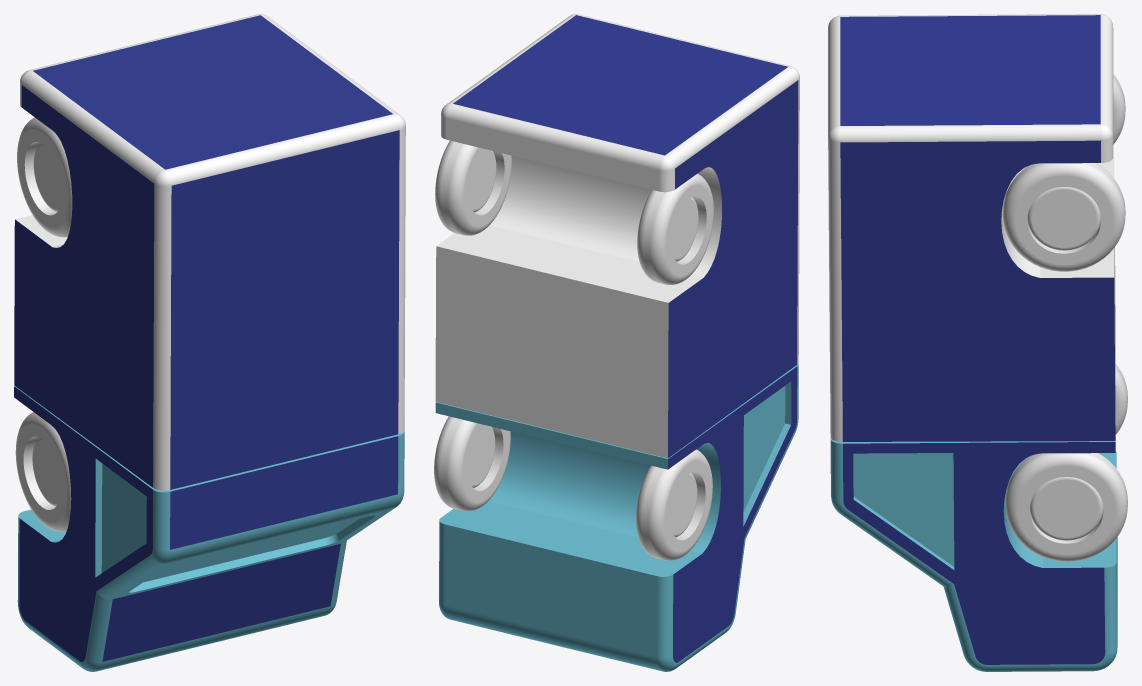
The model's file is car v4.fbx.
The picture shows the model from 3 angles, left to right: view 1: azimuth 30°, elevation 25°; view 2: azimuth 150°, elevation 25°; view 3: azimuth 270°, elevation 25°; orthographic projection. The views are drawn at different scales.
Visible parts, largest first — view 1: Body10, フロント, タイヤ (2), タイヤ (1); view 2: Body10, フロント, タイヤ (2), タイヤ (1), タイヤ, タイヤ (3); view 3: Body10, フロント, タイヤ (3), タイヤ, タイヤ (1), タイヤ (2).
Part boxes in pixels (x1,y1,x2,y2): Body10: (14,14,405,490); フロント: (14,386,404,671); タイヤ (2): (17,117,72,237); タイヤ (1): (15,412,71,531); Body10: (435,14,799,458); フロント: (435,363,798,671); タイヤ (2): (637,173,713,284); タイヤ (1): (636,449,712,560); タイヤ: (435,140,511,235); タイヤ (3): (434,416,510,511); Body10: (828,14,1115,441); フロント: (830,438,1117,671); タイヤ (3): (1005,453,1127,561); タイヤ: (1003,163,1125,271); タイヤ (1): (1115,364,1127,434); タイヤ (2): (1113,74,1125,144).
Size of the model in its own units: 115 by 245 by 122.
